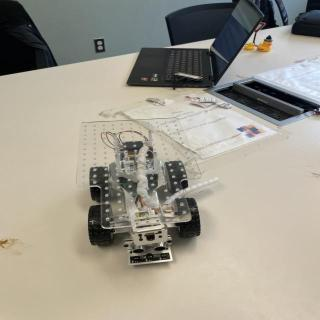vehicle: (76, 119, 209, 269)
